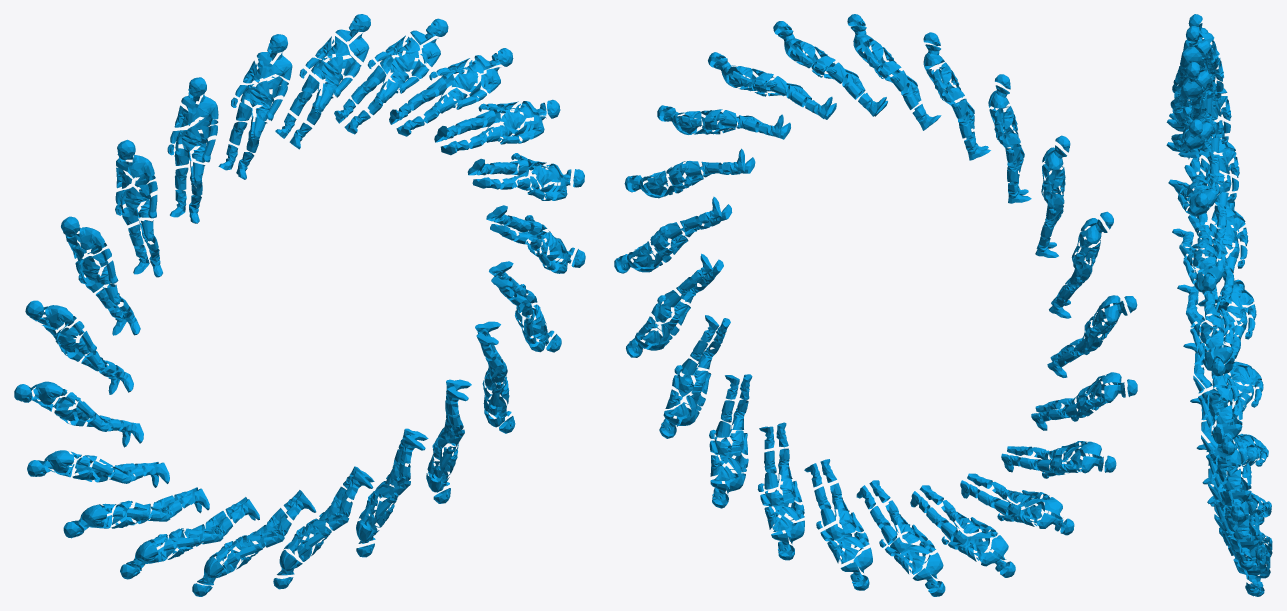
Rendered from per2ring.fbx.
The picture shows the model from 3 angles, left to right: view 1: azimuth 30°, elevation 25°; view 2: azimuth 150°, elevation 25°; view 3: azimuth 270°, elevation 25°; orthographic projection. The views are drawn at different scales.
Visible parts, largest first — view 1: no part large enough to name; view 2: no part large enough to name; view 3: lowpolyCharacterBorder_156_fracturepart6_10, lowpolyCharacterBorder_156_fracturepart6_9, lowpolyCharacterBorder_156_fracturepart6_8, lowpolyCharacterBorder_156_fracturepart4_5, lowpolyCharacterBorder_156_fracturepart12_5, lowpolyCharacterBorder_156_fracturepart4_3, lowpolyCharacterBorder_156_fracturepart4_7, lowpolyCharacterBorder_156_fracturepart3_4, lowpolyCharacterBorder_156_fracturepart3_3, lowpolyCharacterBorder_156_fracturepart3_5, lowpolyCharacterBorder_156_fracturepart9_14, lowpolyCharacterBorder_156_fracturepart17_15 (+37 smaller).
Part boxes in pixels (x1,y1,x2,y2): lowpolyCharacterBorder_156_fracturepart6_10: (1180,43,1202,67); lowpolyCharacterBorder_156_fracturepart6_9: (1180,78,1202,99); lowpolyCharacterBorder_156_fracturepart6_8: (1182,130,1204,150); lowpolyCharacterBorder_156_fracturepart4_5: (1225,468,1241,489); lowpolyCharacterBorder_156_fracturepart12_5: (1177,284,1198,305); lowpolyCharacterBorder_156_fracturepart4_3: (1233,518,1250,539); lowpolyCharacterBorder_156_fracturepart4_7: (1216,404,1232,424); lowpolyCharacterBorder_156_fracturepart3_4: (1222,424,1242,445); lowpolyCharacterBorder_156_fracturepart3_3: (1232,490,1251,512); lowpolyCharacterBorder_156_fracturepart3_5: (1213,347,1233,363); lowpolyCharacterBorder_156_fracturepart9_14: (1214,205,1226,227); lowpolyCharacterBorder_156_fracturepart17_15: (1217,287,1232,312).
Size of the model in its own units: 729 by 722 by 132.
